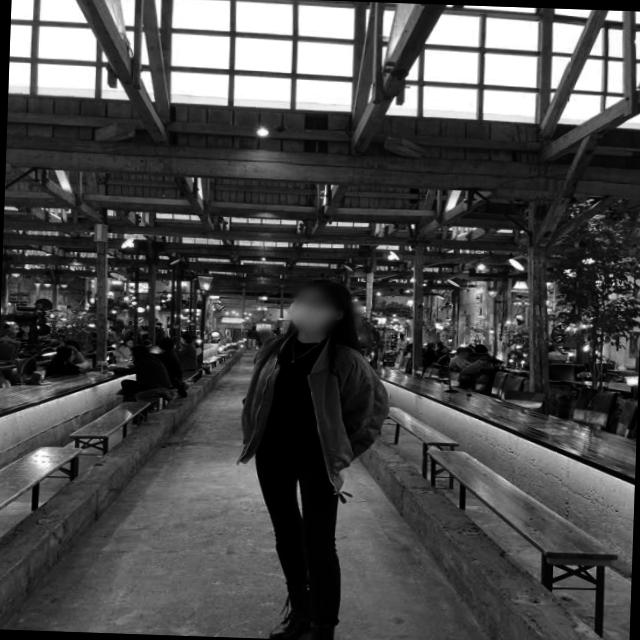denimpants: (248, 436, 343, 628)
jacket: (238, 328, 389, 493)
